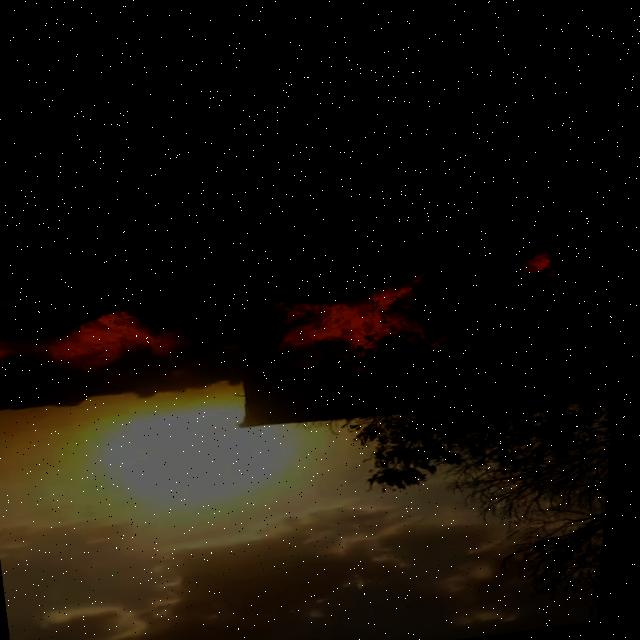Fire: (263, 254, 465, 393), (0, 288, 203, 398)
